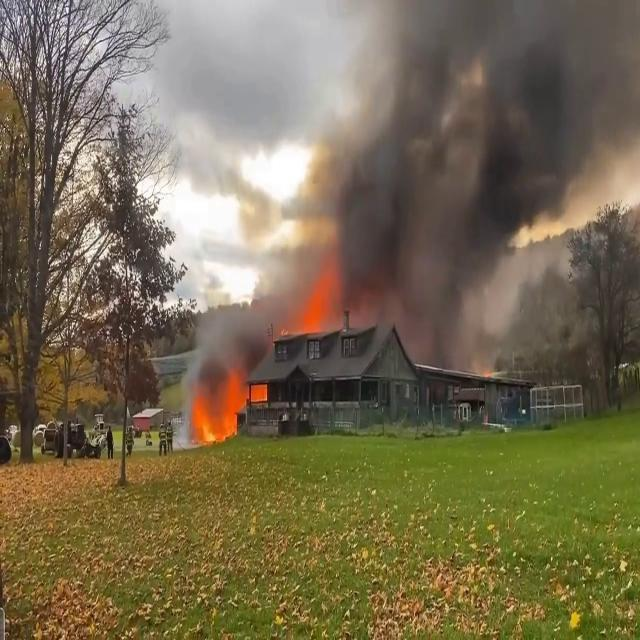Fire: (186, 356, 270, 452)
Smoke: (278, 0, 640, 330)
